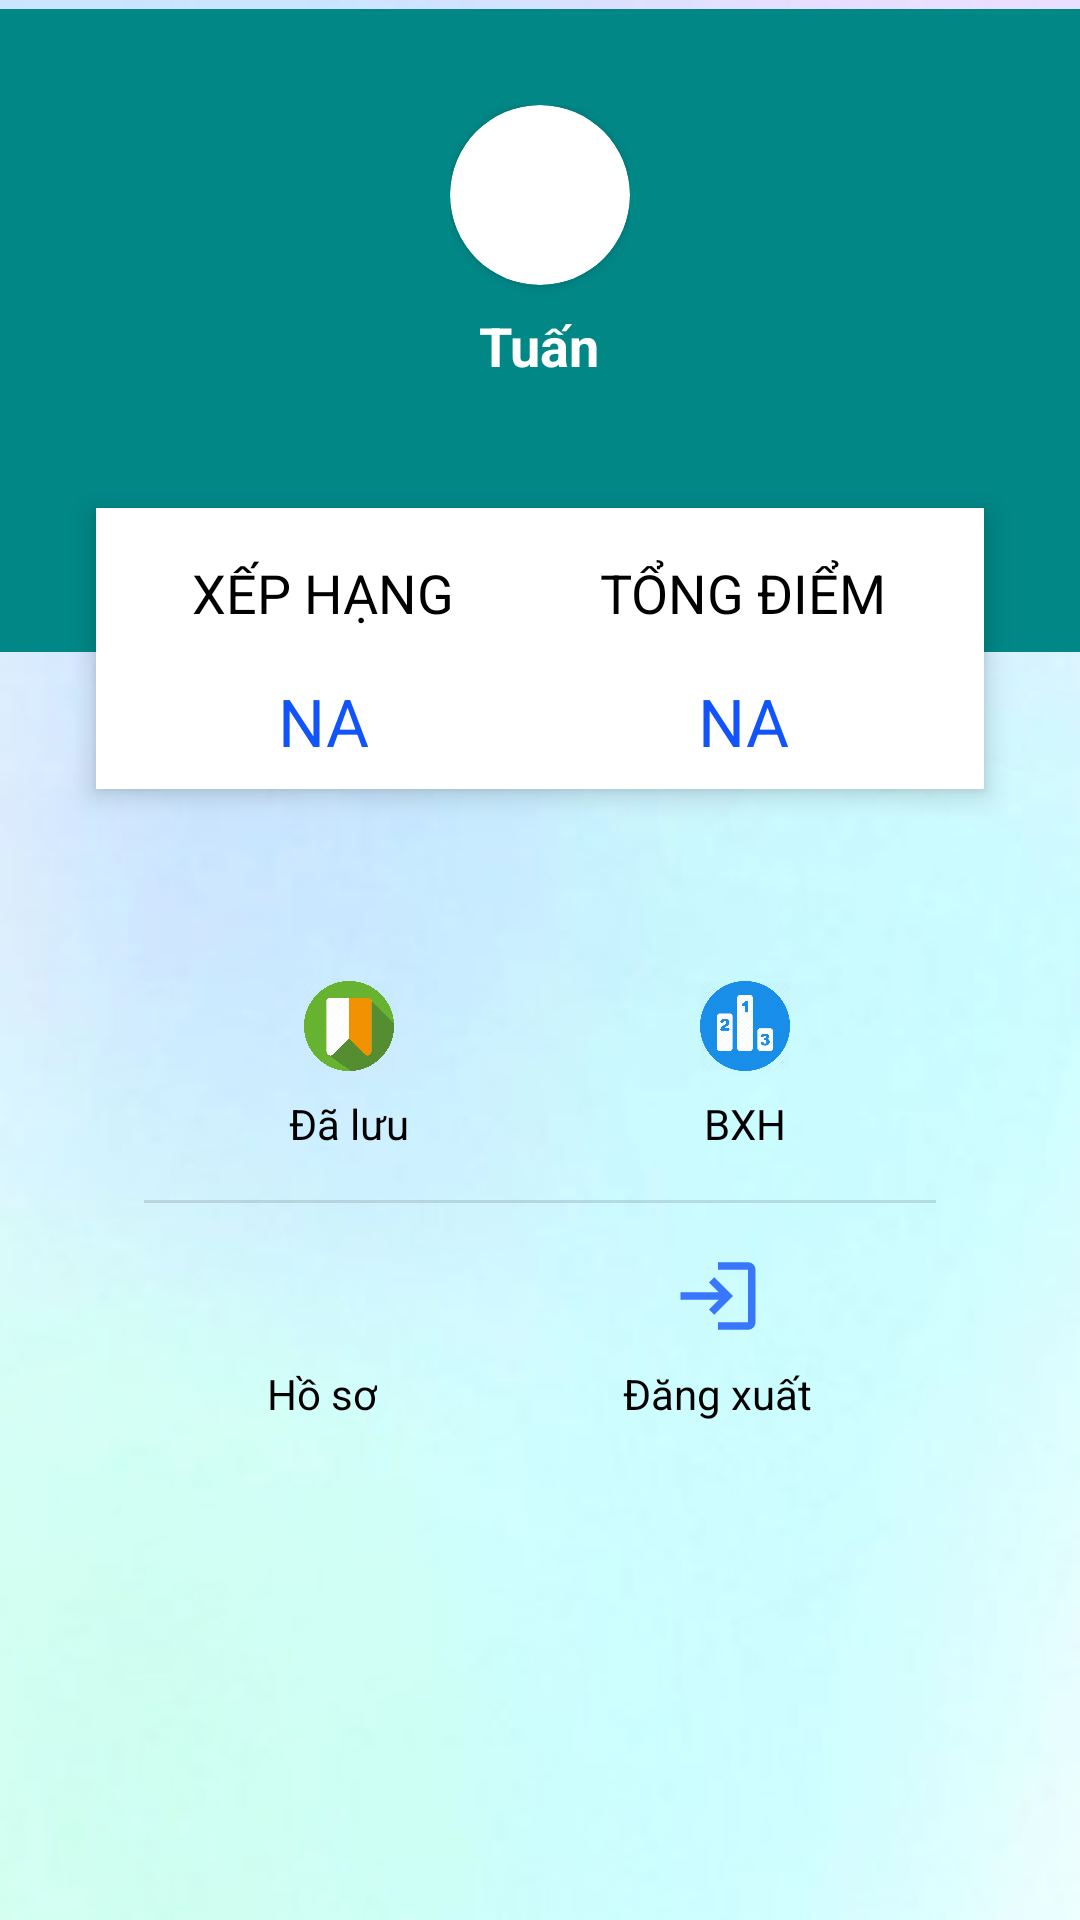

Icon bounding boxes for this 1080 x 1920 phone screenshot, format (x1, y1, x2, y2):
leaderboard: (700, 981, 790, 1071)
